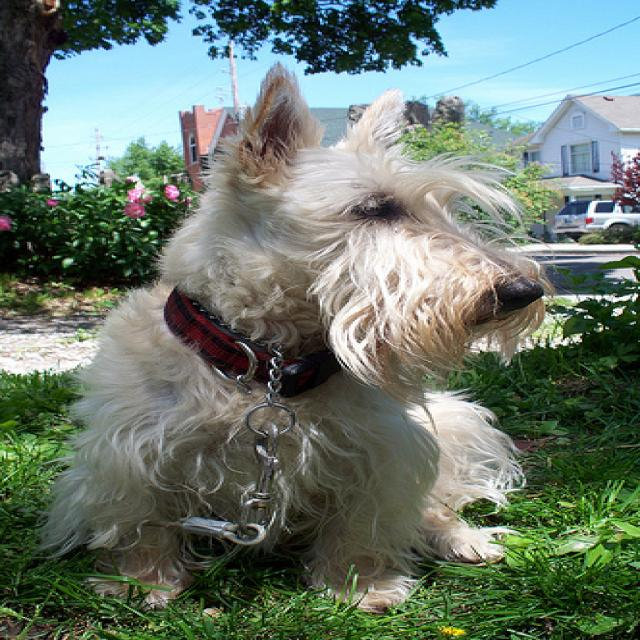dog-scottish_terrier: (19, 45, 567, 626)
